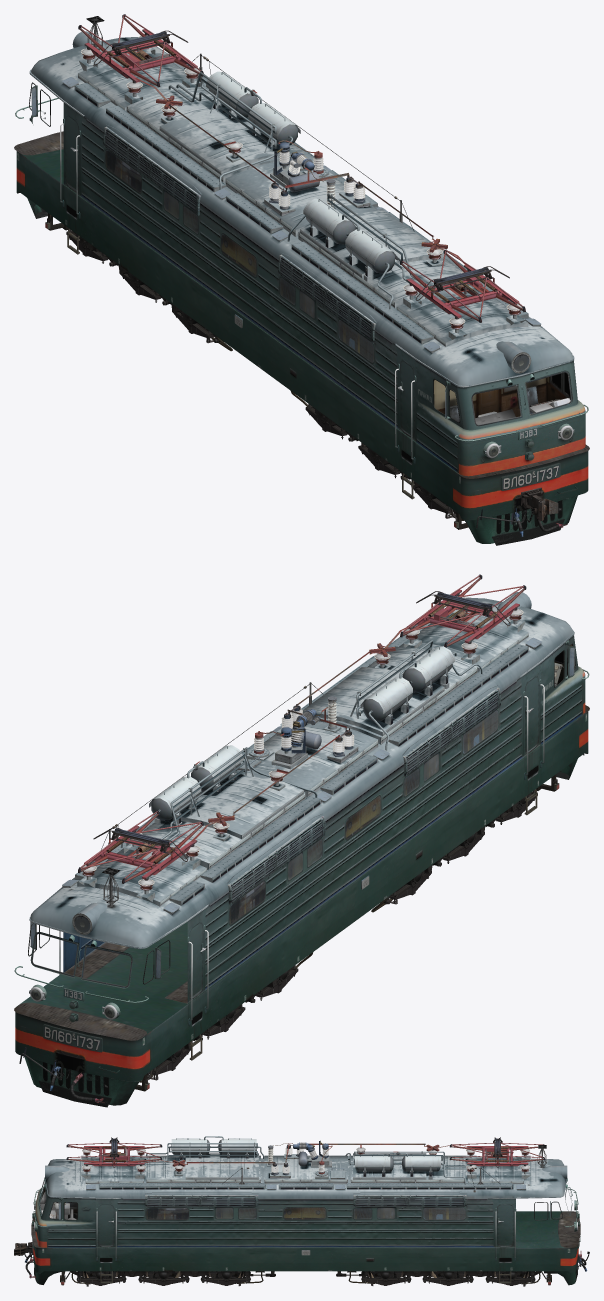
3 views of the same model, one above another, from view 1: azimuth 30°, elevation 25°; view 2: azimuth 150°, elevation 25°; view 3: azimuth 270°, elevation 25° (orthographic). The views are drawn at different scales.
Visible parts, largest first — view 1: 02 - Default, 02 - Default.041, 02 - Default.005, 02 - Default.028, 02 - Default.080, 02 - Default.006, 02 - Default.036, 01 - Default, 02 - Default.001, 02 - Default.017, 02 - Default.016, 02 - Default.040 (+13 smaller); view 2: 02 - Default, 02 - Default.041, 02 - Default.005, 02 - Default.028, 02 - Default.006, 02 - Default.036, 01 - Default, 02 - Default.017, 02 - Default.080, 02 - Default.025, 02 - Default.016, 02 - Default.060 (+12 smaller); view 3: 02 - Default.041, 02 - Default, 02 - Default.005, 02 - Default.028, 01 - Default, 02 - Default.036, 02 - Default.006, 02 - Default.080, 02 - Default.091, 02 - Default.090, 02 - Default.016, 02 - Default.017 (+14 smaller).
Boxes of the visible parts, x1,y1,x2,y2 form: 02 - Default: (14, 131, 589, 520); 02 - Default.041: (63, 103, 416, 441); 02 - Default.005: (78, 53, 528, 346); 02 - Default.028: (29, 37, 574, 387); 02 - Default.080: (416, 360, 585, 476); 02 - Default.006: (74, 62, 528, 343); 02 - Default.036: (103, 124, 463, 343); 01 - Default: (105, 147, 374, 365); 02 - Default.001: (434, 372, 570, 424); 02 - Default.017: (303, 198, 397, 281); 02 - Default.016: (206, 71, 300, 146); 02 - Default.040: (464, 495, 577, 545); 02 - Default: (14, 705, 589, 1081); 02 - Default.041: (187, 663, 540, 1002); 02 - Default.005: (77, 613, 528, 906); 02 - Default.028: (29, 597, 574, 948); 02 - Default.006: (75, 623, 528, 905); 02 - Default.036: (139, 656, 500, 904); 01 - Default: (228, 708, 498, 926); 02 - Default.017: (360, 646, 454, 725); 02 - Default.080: (540, 635, 585, 744); 02 - Default.025: (24, 1057, 139, 1107); 02 - Default.016: (149, 745, 243, 825); 02 - Default.060: (78, 826, 200, 901); 02 - Default.041: (96, 1198, 515, 1247); 02 - Default: (31, 1211, 580, 1273); 02 - Default.005: (85, 1153, 523, 1183); 02 - Default.028: (45, 1158, 566, 1198); 01 - Default: (145, 1206, 466, 1220); 02 - Default.036: (145, 1192, 466, 1207); 02 - Default.006: (99, 1155, 512, 1189); 02 - Default.080: (35, 1177, 95, 1247); 02 - Default.091: (336, 1271, 540, 1285); 02 - Default.090: (71, 1271, 275, 1285); 02 - Default.016: (354, 1151, 441, 1179); 02 - Default.017: (170, 1136, 258, 1160).
Size of what is drawn, in the model's own units: 3.35 by 5.36 by 21.02.
Materials: 3 (3 with a texture image).
